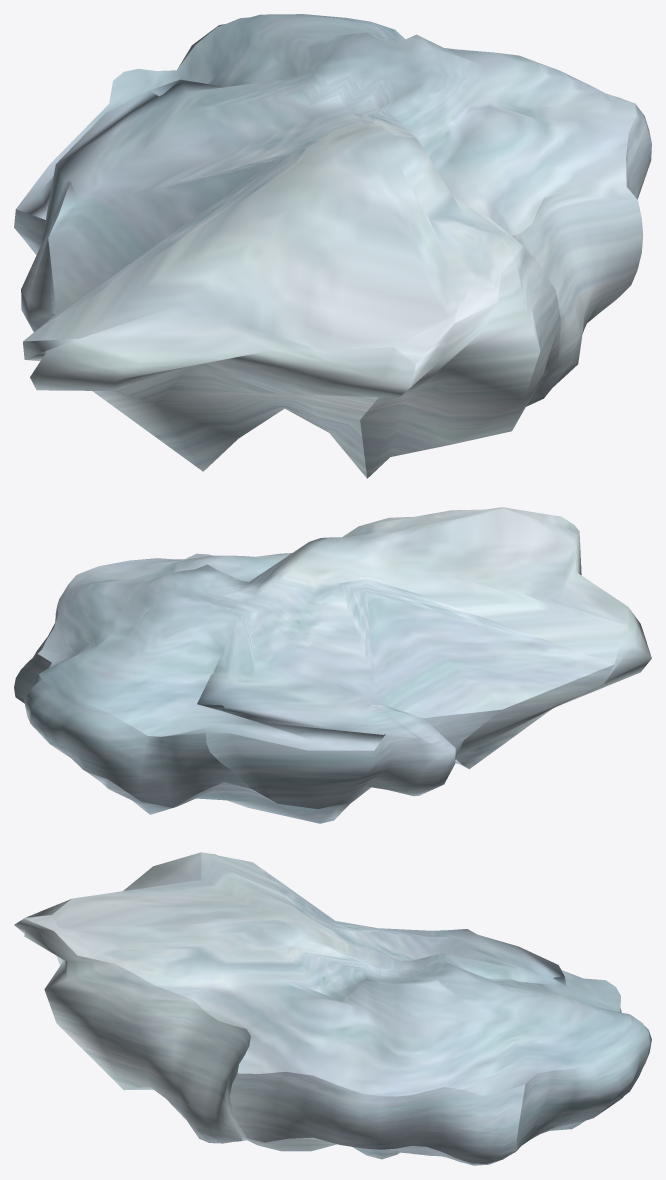
Rendered from BigIce_D.fbx.
3 renders of one model, top to bottom at view 1: azimuth 30°, elevation 25°; view 2: azimuth 150°, elevation 25°; view 3: azimuth 270°, elevation 25°, orthographic. The views are drawn at different scales.
Parts seen in each view (by area): view 1: pCube9; view 2: pCube9; view 3: pCube9.
Boxes of the visible parts, x1,y1,x2,y2 form: pCube9: [14, 14, 651, 478]; pCube9: [14, 507, 651, 823]; pCube9: [14, 852, 651, 1165].
Bounding box in the file's own units: 129 × 47.46 × 136.
1 material, 1 textured.
